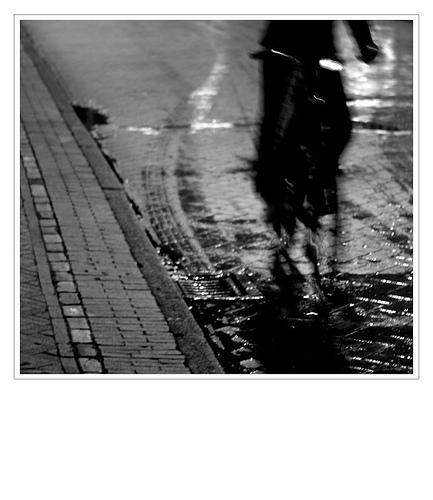bicycle: (244, 47, 370, 298)
